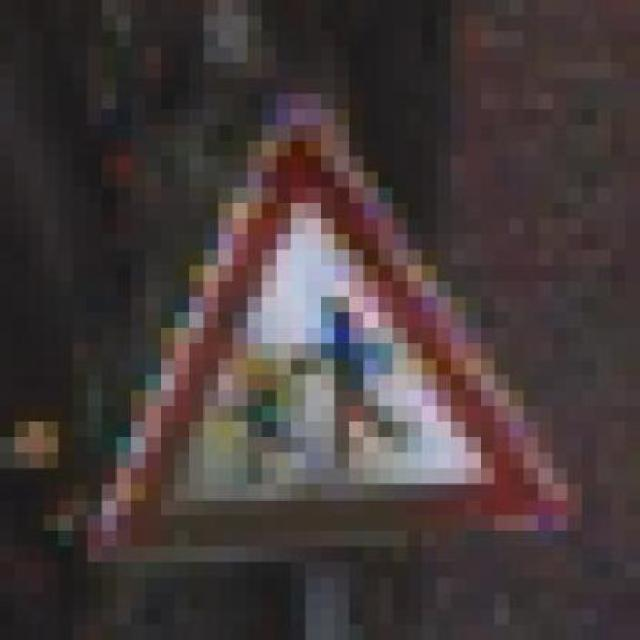Beware of children: (59, 93, 568, 562)
